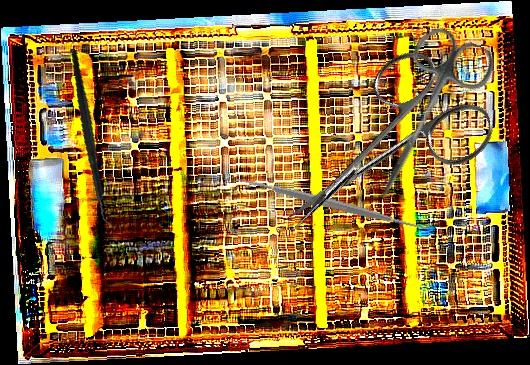Chopper: (40, 48, 146, 230)
Iris Scissors: (248, 33, 505, 278), (350, 21, 501, 216)
Spatula Surgical: (232, 166, 435, 241)
